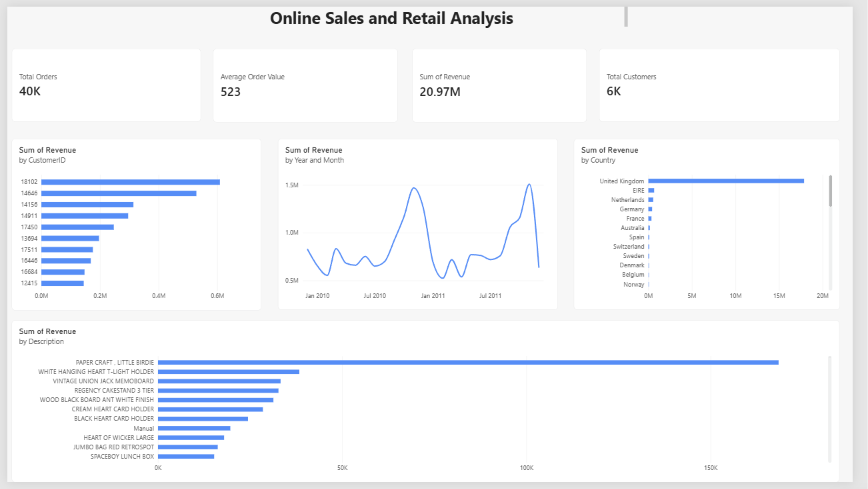

The page's visual inventory and layout, read from the dashboard file:
{"tool":"powerbi","page":{"name":"Page 1","canvas":[1920,1080],"ordinal":0},"visuals":[{"type":"cardVisual","fields":{"Data":["Sum(online_retail_analysis clean_retail_transactions.Revenue)"]},"box":[920.8,94.7,397.3,168.4],"z":0},{"type":"cardVisual","fields":{"Data":["online_retail_analysis clean_retail_transactions.Total Orders"]},"box":[10,95,430,167.5],"z":1000},{"type":"cardVisual","fields":{"Data":["online_retail_analysis clean_retail_transactions.Average Order Value"]},"box":[468.3,94.7,420.9,168.4],"z":2000},{"type":"cardVisual","fields":{"Data":["online_retail_analysis clean_retail_transactions.Total Customers"]},"box":[1344.3,94.7,547.5,167.5],"z":3000},{"type":"lineChart","fields":{"Category":["online_retail_analysis clean_retail_transactions.InvoiceDate.Variation.Date Hierarchy.Year","online_retail_analysis clean_retail_transactions.InvoiceDate.Variation.Date Hierarchy.Month"],"Y":["Sum(online_retail_analysis clean_retail_transactions.Revenue)"]},"box":[615.6,299.9,636.7,389.4],"z":4000},{"type":"clusteredBarChart","fields":{"Category":["online_retail_analysis clean_retail_transactions.CustomerID"],"Y":["Sum(online_retail_analysis clean_retail_transactions.Revenue)"]},"box":[10,300,567.5,390],"z":5000},{"type":"clusteredBarChart","fields":{"Category":["online_retail_analysis clean_retail_transactions.Description"],"Y":["Sum(online_retail_analysis clean_retail_transactions.Revenue)"]},"box":[10.5,713,1881,368.3],"z":6000},{"type":"clusteredBarChart","fields":{"Category":["online_retail_analysis clean_retail_transactions.Country"],"Y":["Sum(online_retail_analysis clean_retail_transactions.Revenue)"]},"box":[1286.5,299.9,605.1,389.4],"z":6001},{"type":"textbox","box":[597.2,0,812.9,47.4],"z":6002}]}

Visuals, with their boxes in screenshot pixels (x1, y1, x2, y2), scaled from the page's 1920x1080 canvas onto the 868x489 screenshot:
cardVisual - Sum(online_retail_analysis clean_retail_transactions.Revenue): 416:43:596:119
cardVisual - online_retail_analysis clean_retail_transactions.Total Orders: 5:43:199:119
cardVisual - online_retail_analysis clean_retail_transactions.Average Order Value: 212:43:402:119
cardVisual - online_retail_analysis clean_retail_transactions.Total Customers: 608:43:855:119
lineChart - online_retail_analysis clean_retail_transactions.InvoiceDate.Variation.Date Hierarchy.Year x online_retail_analysis clean_retail_transactions.InvoiceDate.Variation.Date Hierarchy.Month: 278:136:566:312
clusteredBarChart - online_retail_analysis clean_retail_transactions.CustomerID x Sum(online_retail_analysis clean_retail_transactions.Revenue): 5:136:261:312
clusteredBarChart - online_retail_analysis clean_retail_transactions.Description x Sum(online_retail_analysis clean_retail_transactions.Revenue): 5:323:855:488
clusteredBarChart - online_retail_analysis clean_retail_transactions.Country x Sum(online_retail_analysis clean_retail_transactions.Revenue): 582:136:855:312
textbox: 270:0:637:21
